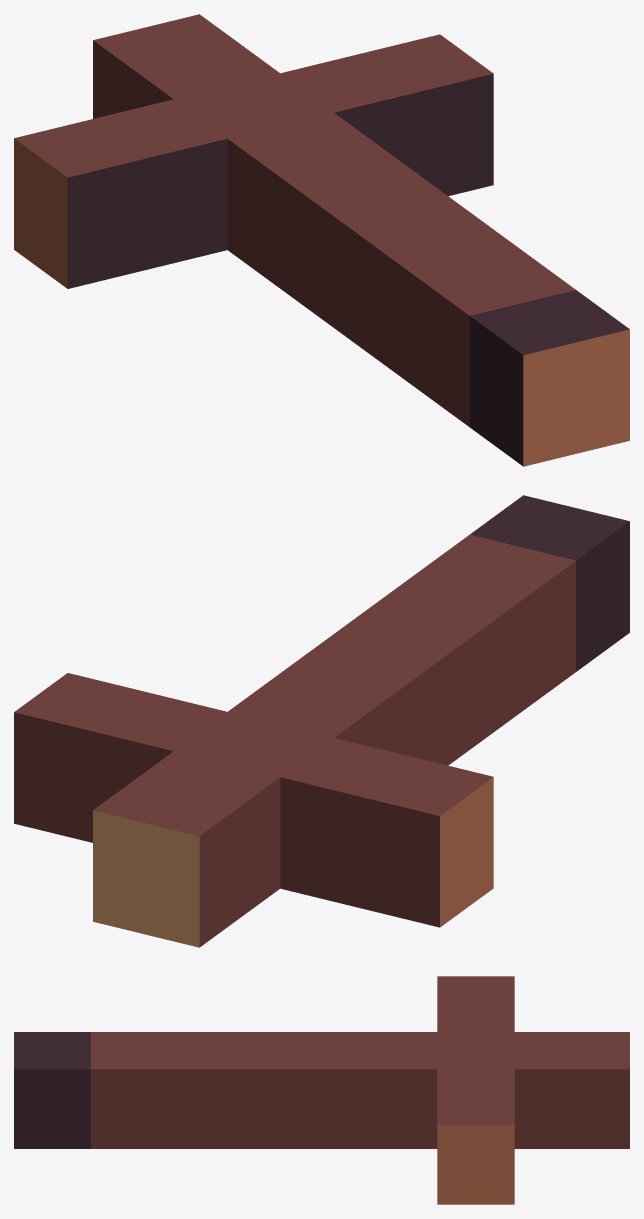
File: Cross.gltf
3 views of the same model, one above another, from view 1: azimuth 30°, elevation 25°; view 2: azimuth 150°, elevation 25°; view 3: azimuth 270°, elevation 25° (orthographic). The views are drawn at different scales.
Parts seen in each view (by area): view 1: mesh; view 2: mesh; view 3: mesh.
Part boxes in pixels (x1,y1,x2,y2): mesh: (14,14,629,466); mesh: (14,495,629,947); mesh: (14,976,629,1204).
Bounding box in the file's own units: 0.25 × 0.0625 × 0.4375.
Materials: 1 (1 with a texture image).
